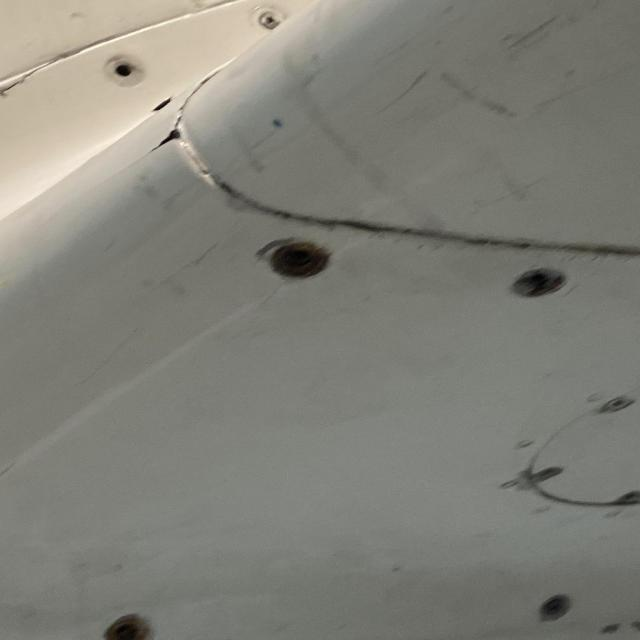Crack: (155, 113, 194, 157), (0, 69, 49, 99)
Missing-head: (267, 240, 328, 278), (103, 54, 143, 85), (102, 615, 150, 640), (538, 595, 572, 624)
